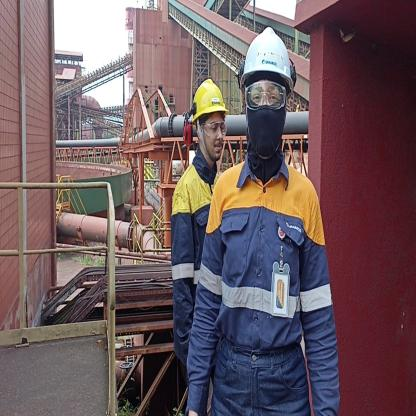Balaclava: (242, 80, 293, 166)
Capacete: (242, 22, 296, 82), (186, 75, 229, 115)
Operacional: (191, 160, 339, 411)
